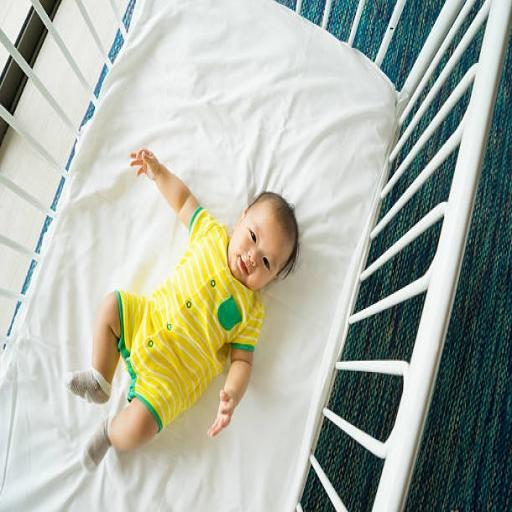baby: (67, 149, 298, 470)
crib: (0, 0, 511, 510)
